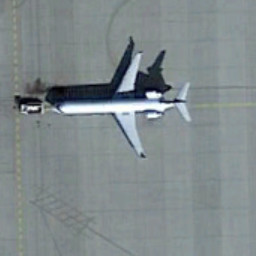Airplane: (45, 40, 203, 171)
